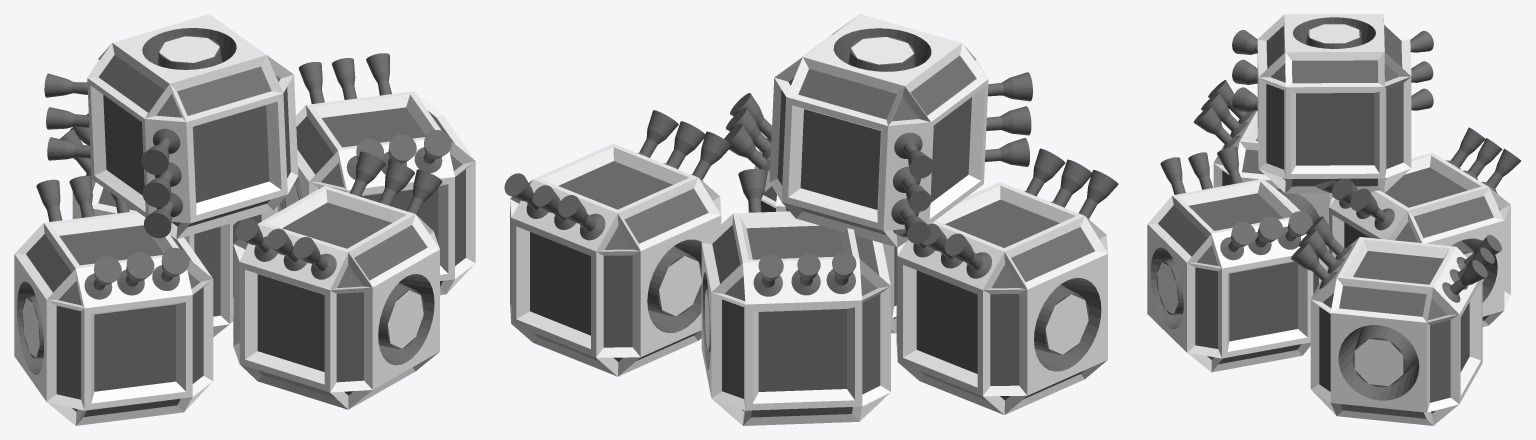
The model's file is engine.obj.
3 views of the same model, side by side, from view 1: azimuth 30°, elevation 25°; view 2: azimuth 150°, elevation 25°; view 3: azimuth 270°, elevation 25° (orthographic). The views are drawn at different scales.
Parts seen in each view (by area): view 1: EnginePoint_Engine_Engine_立方体.001; view 2: EnginePoint_Engine_Engine_立方体.001; view 3: EnginePoint_Engine_Engine_立方体.001.
Part boxes in pixels (<box>): EnginePoint_Engine_Engine_立方体.001: <box>14,14,475,425</box>; EnginePoint_Engine_Engine_立方体.001: <box>504,14,1118,425</box>; EnginePoint_Engine_Engine_立方体.001: <box>1147,14,1520,425</box>.
Size of the model in its own units: 7.37 by 4.51 by 5.57.
Materials: 1 (1 with a texture image).
